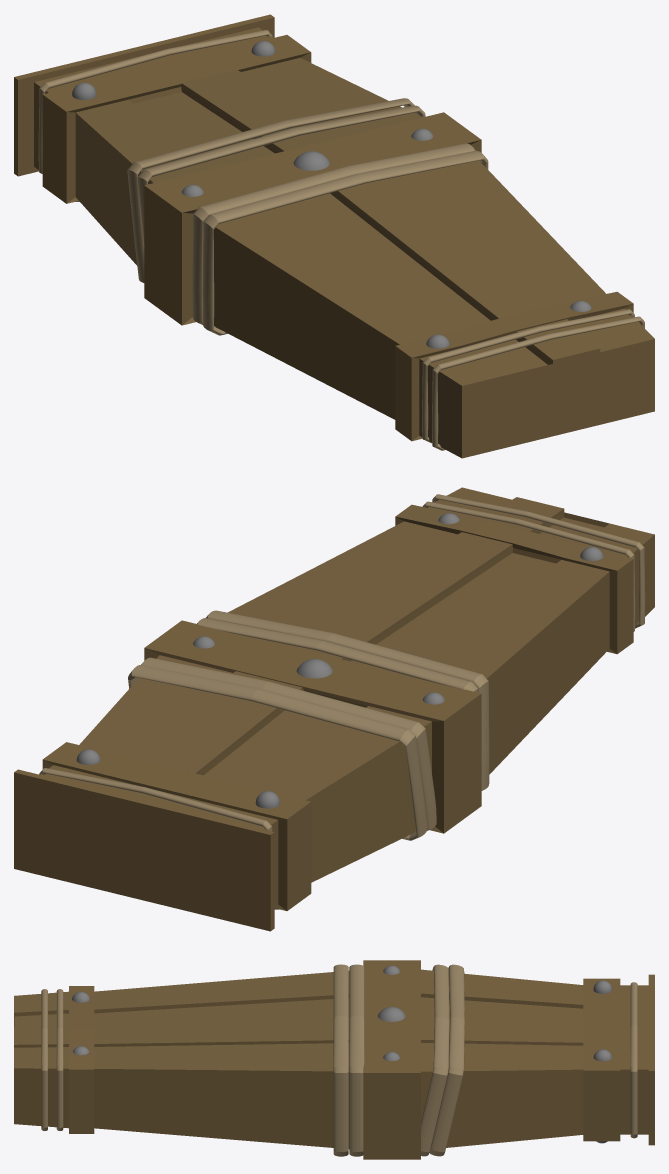
File: coffin with out letter.fbx
3 views of the same model, one above another, from view 1: azimuth 30°, elevation 25°; view 2: azimuth 150°, elevation 25°; view 3: azimuth 270°, elevation 25° (orthographic). The views are drawn at different scales.
Visible parts, largest first — view 1: bottom_bolt_05; view 2: bottom_bolt_05; view 3: bottom_bolt_05.
Part boxes in pixels (x1,y1,x2,y2): bottom_bolt_05: (14, 14, 654, 458); bottom_bolt_05: (14, 487, 654, 931); bottom_bolt_05: (14, 960, 654, 1159).
Size of the model in its own units: 3.56 by 1.5 by 8.56.
